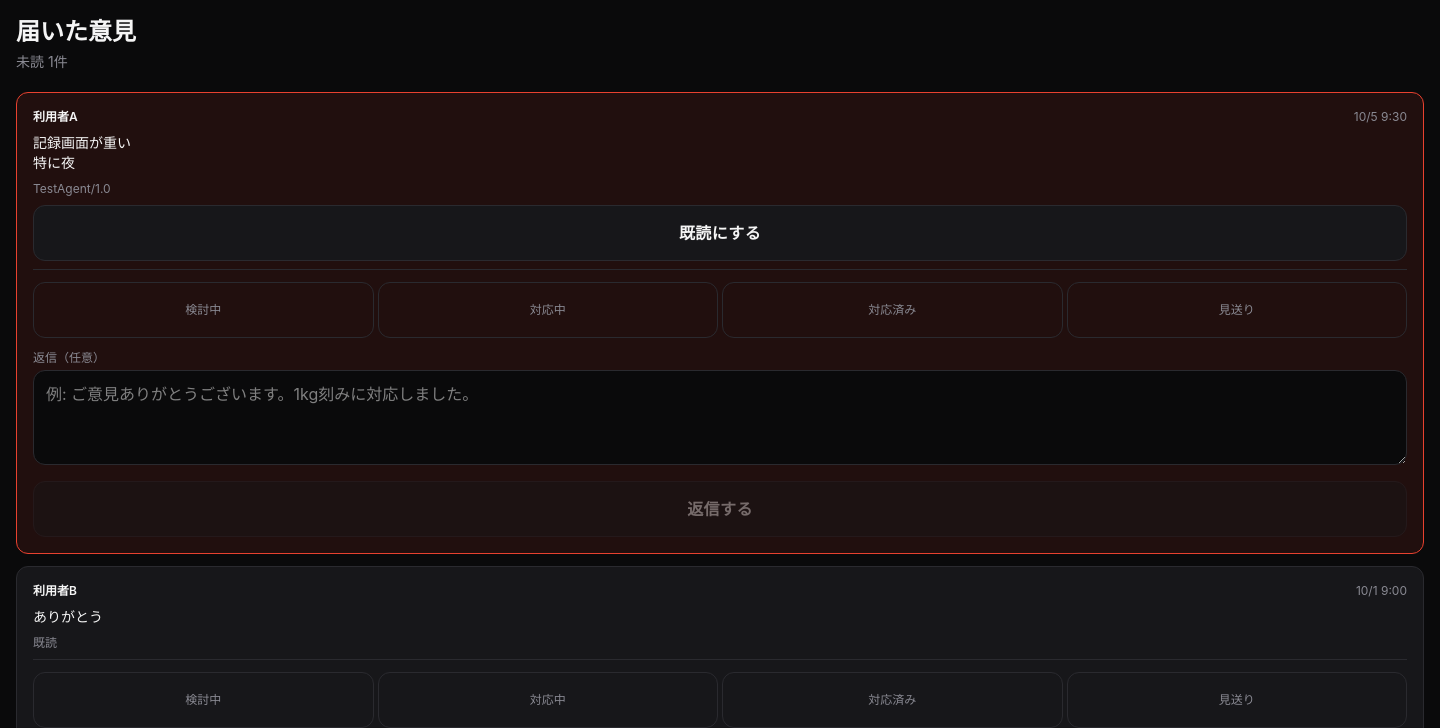
AdminFeedbackPage › answers a note with a status and a reply, which also marks it read
This screenshot has width=1440, height=728.
Expected: the heading "届いた意見" is shown, left=16, top=17, right=136, bottom=46
Expected: the button "返信する" is disabled, left=33, top=480, right=1407, bottom=536
Click the button "対応中" below "記録画面が重い 特に夜" at (548, 310), box left=378, top=282, right=718, bottom=338
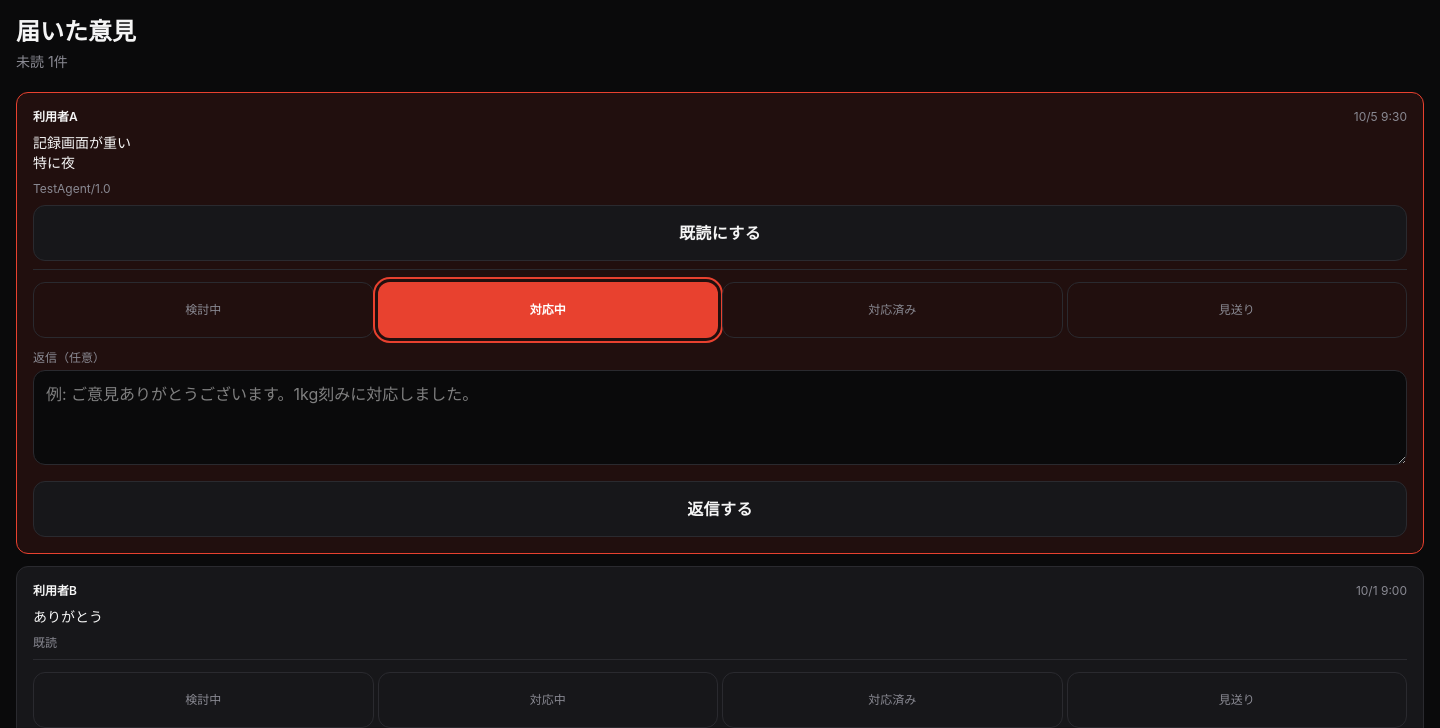
Type "調査しています" into the text box labelled "返信（任意）" below "利用者A" at (720, 417), box left=33, top=370, right=1407, bottom=464
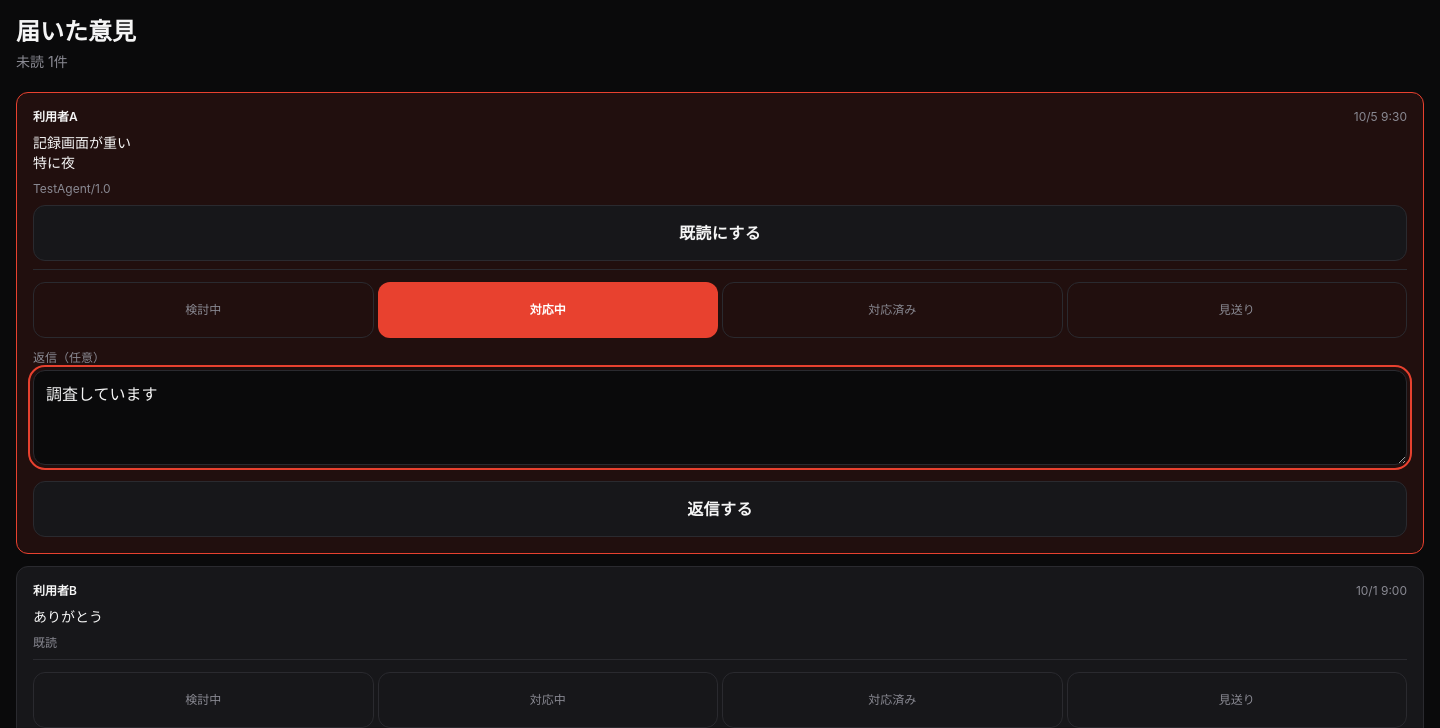
Click the button "返信する" at (720, 508), box left=33, top=480, right=1407, bottom=536
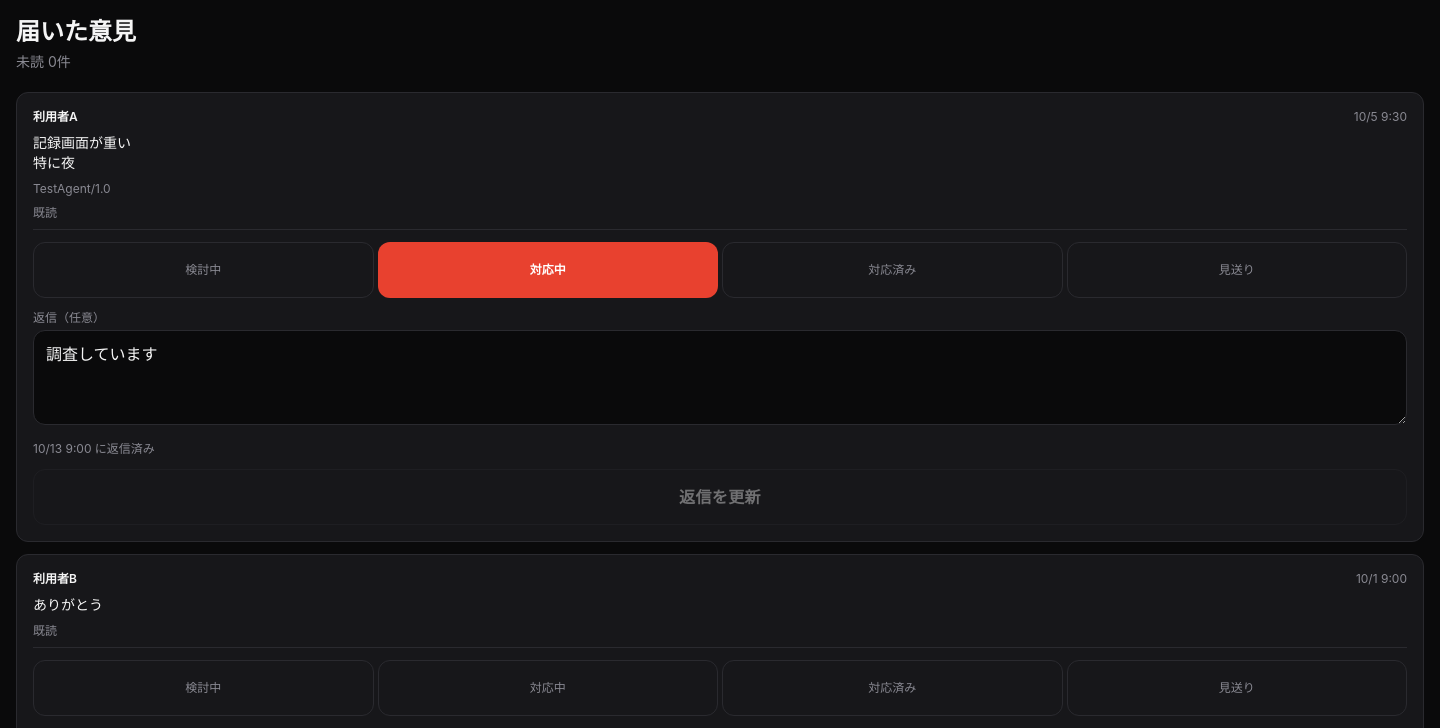
Now the text "10/13 9:00 に返信済み" is shown, box left=33, top=440, right=155, bottom=456
Now the button "返信を更新" is disabled, box left=33, top=468, right=1407, bottom=524
Now the text "未読 0件" is shown, box left=16, top=53, right=71, bottom=70
